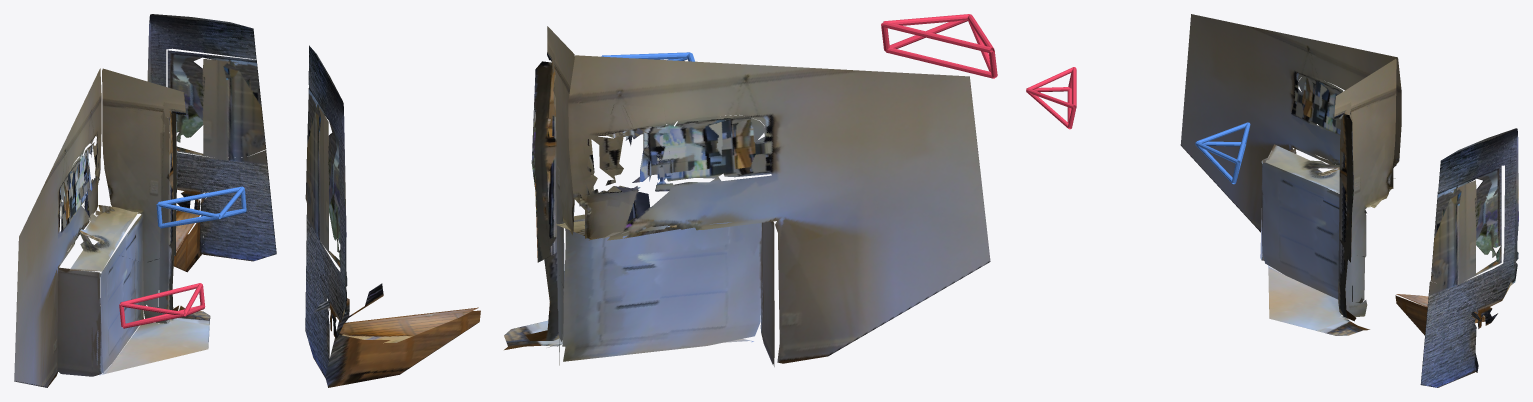
3 views of the same model, side by side, from view 1: azimuth 30°, elevation 25°; view 2: azimuth 150°, elevation 25°; view 3: azimuth 270°, elevation 25° (orthographic). The views are drawn at different scales.
Visible parts, largest first — view 1: Node; view 2: Node; view 3: Node.
Boxes of the visible parts, x1,y1,x2,y2 form: Node: (14,14,276,387); Node: (305,14,997,387); Node: (1026,14,1518,387).
Bounding box in the file's own units: 3.87 × 2.42 × 4.36.
Materials: 22 (20 with a texture image).
